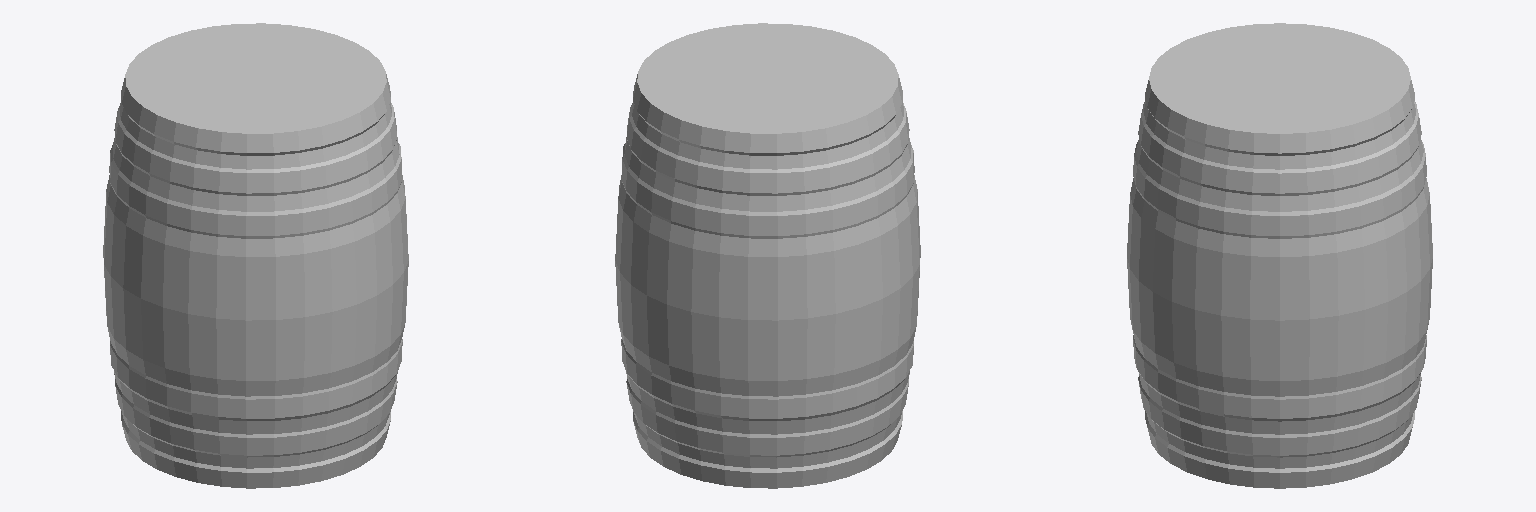
Rendered from barrel.obj.
3 views of the same model, side by side, from view 1: azimuth 30°, elevation 25°; view 2: azimuth 150°, elevation 25°; view 3: azimuth 270°, elevation 25° (orthographic).
Visible parts, largest first — view 1: Mesh_Mesh_Cylinder.001; view 2: Mesh_Mesh_Cylinder.001; view 3: Mesh_Mesh_Cylinder.001.
Boxes of the visible parts, <box> form: Mesh_Mesh_Cylinder.001: <box>103,23,408,488</box>; Mesh_Mesh_Cylinder.001: <box>615,23,920,488</box>; Mesh_Mesh_Cylinder.001: <box>1127,23,1432,488</box>.
Bounding box in the file's own units: 1.28 × 1.64 × 1.28.